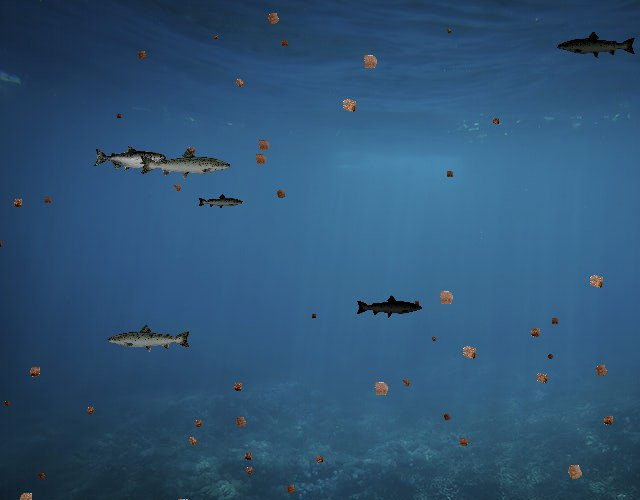Fish: (139, 148, 233, 182), (106, 323, 192, 354), (557, 31, 638, 60), (94, 145, 167, 172), (355, 295, 423, 319), (198, 194, 245, 211)
Pellet: (82, 402, 98, 418), (488, 114, 502, 128), (544, 350, 557, 363), (210, 32, 220, 41)
